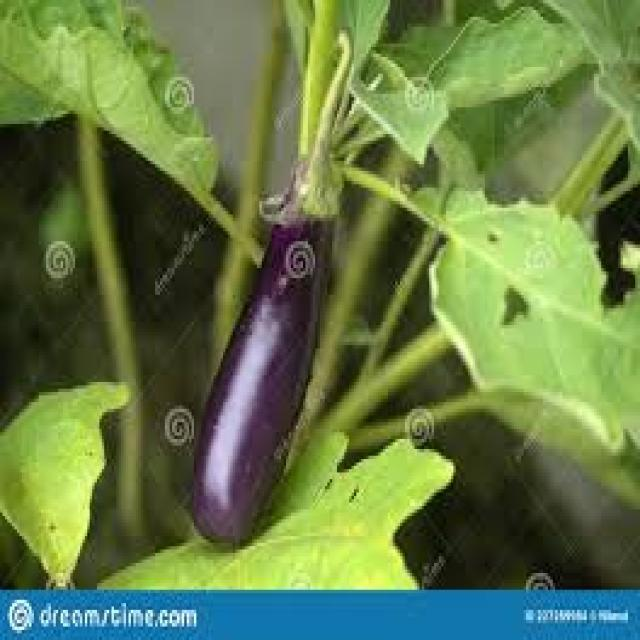Eggplant: (182, 73, 348, 551)
